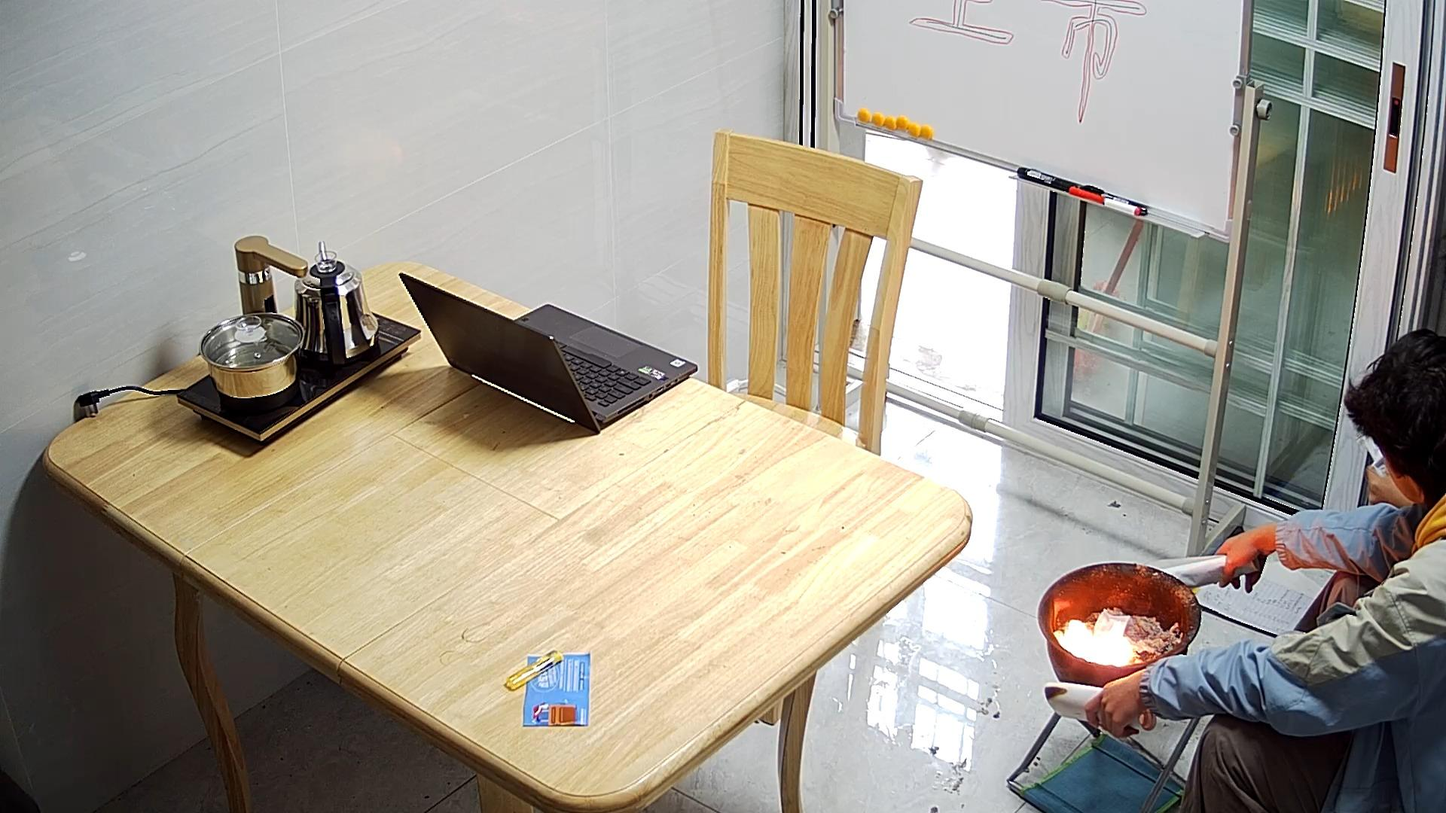fire: (1057, 617, 1134, 665)
